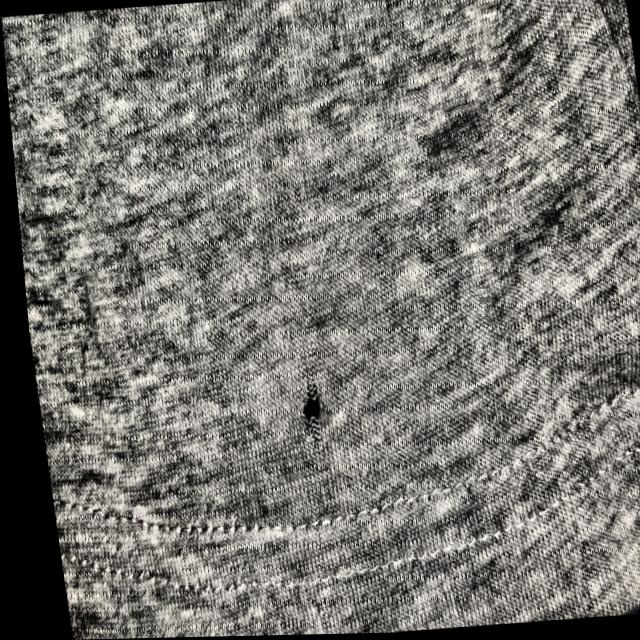Hole: (285, 367, 344, 457)
